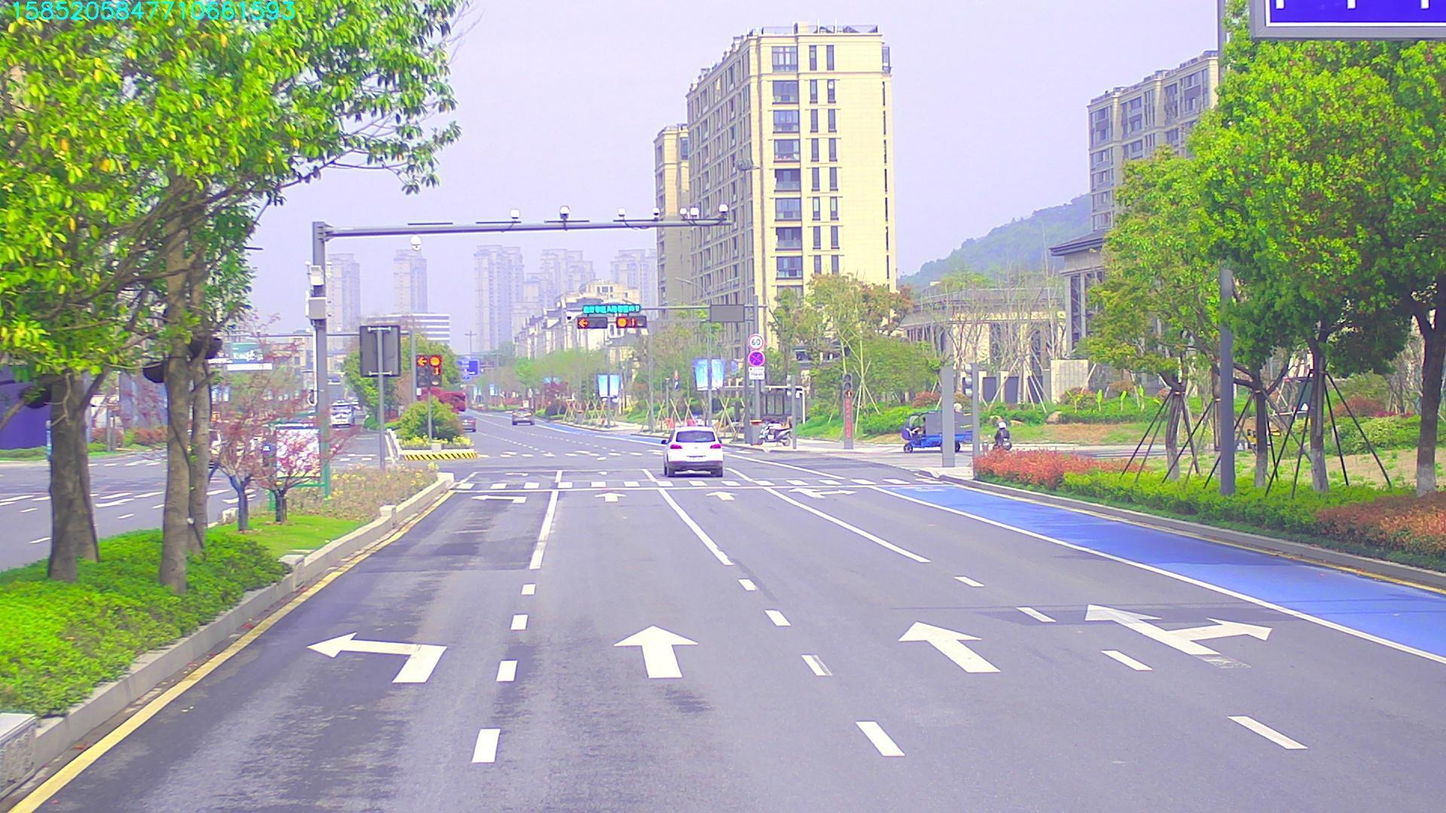red: (572, 315, 609, 328), (618, 315, 648, 330)
wait_on: (581, 300, 645, 315)
